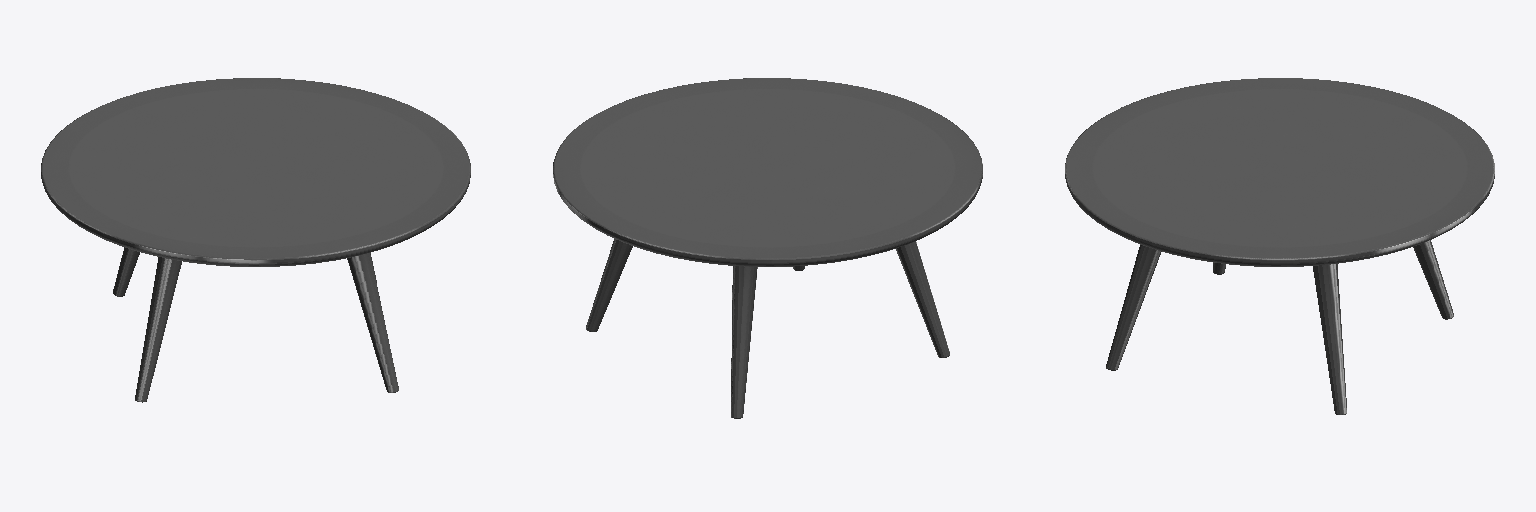
3 renders of one model, left to right at view 1: azimuth 30°, elevation 25°; view 2: azimuth 150°, elevation 25°; view 3: azimuth 270°, elevation 25°, orthographic.
Parts seen in each view (by area): view 1: solid_001, solid_002; view 2: solid_001, solid_002; view 3: solid_001, solid_002.
Part boxes in pixels (x1,y1,x2,y2): solid_001: (41, 78, 470, 266); solid_002: (113, 247, 398, 402); solid_001: (553, 78, 982, 266); solid_002: (586, 239, 949, 418); solid_001: (1065, 78, 1494, 266); solid_002: (1106, 240, 1453, 414).
Size of the model in its own units: 1 by 0.452 by 1.
Materials: 1 (1 with a texture image).